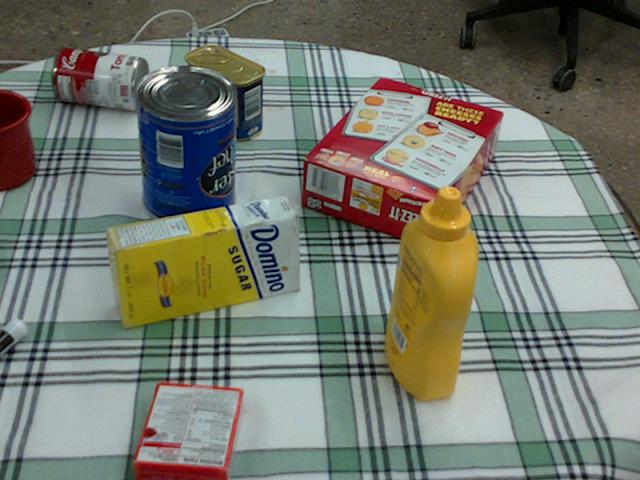cracker_box: (302, 77, 502, 249)
gelatin_box: (132, 382, 241, 479)
large_marker: (0, 318, 27, 355)
master_chef_can: (132, 66, 234, 229)
mug: (0, 88, 37, 188)
mustard_bottle: (385, 186, 478, 398)
potted_meat_can: (184, 46, 264, 140)
sugar_box: (105, 196, 299, 327)
tomato_soup_can: (52, 47, 148, 109)
